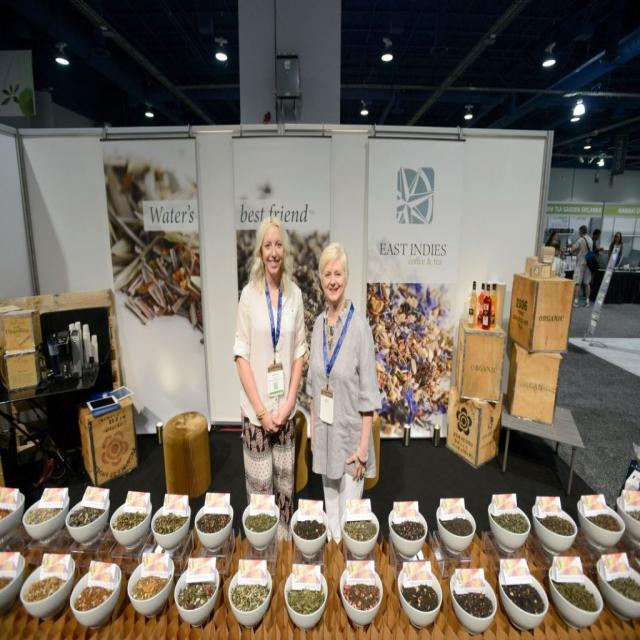body: (232, 215, 310, 533), (304, 241, 384, 549), (570, 223, 594, 309), (543, 227, 561, 290), (608, 230, 626, 271), (550, 237, 568, 278), (590, 228, 602, 252)
